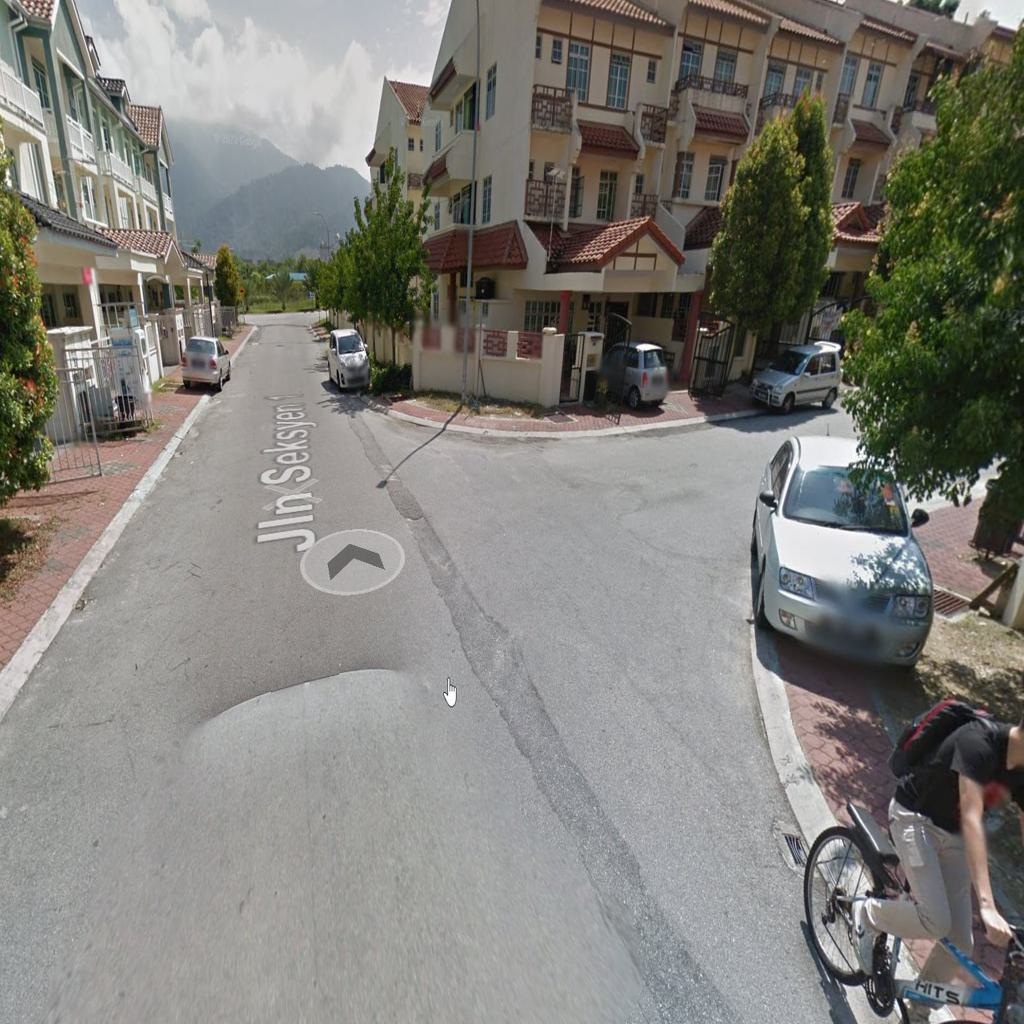Junction: (447, 385, 856, 740)
